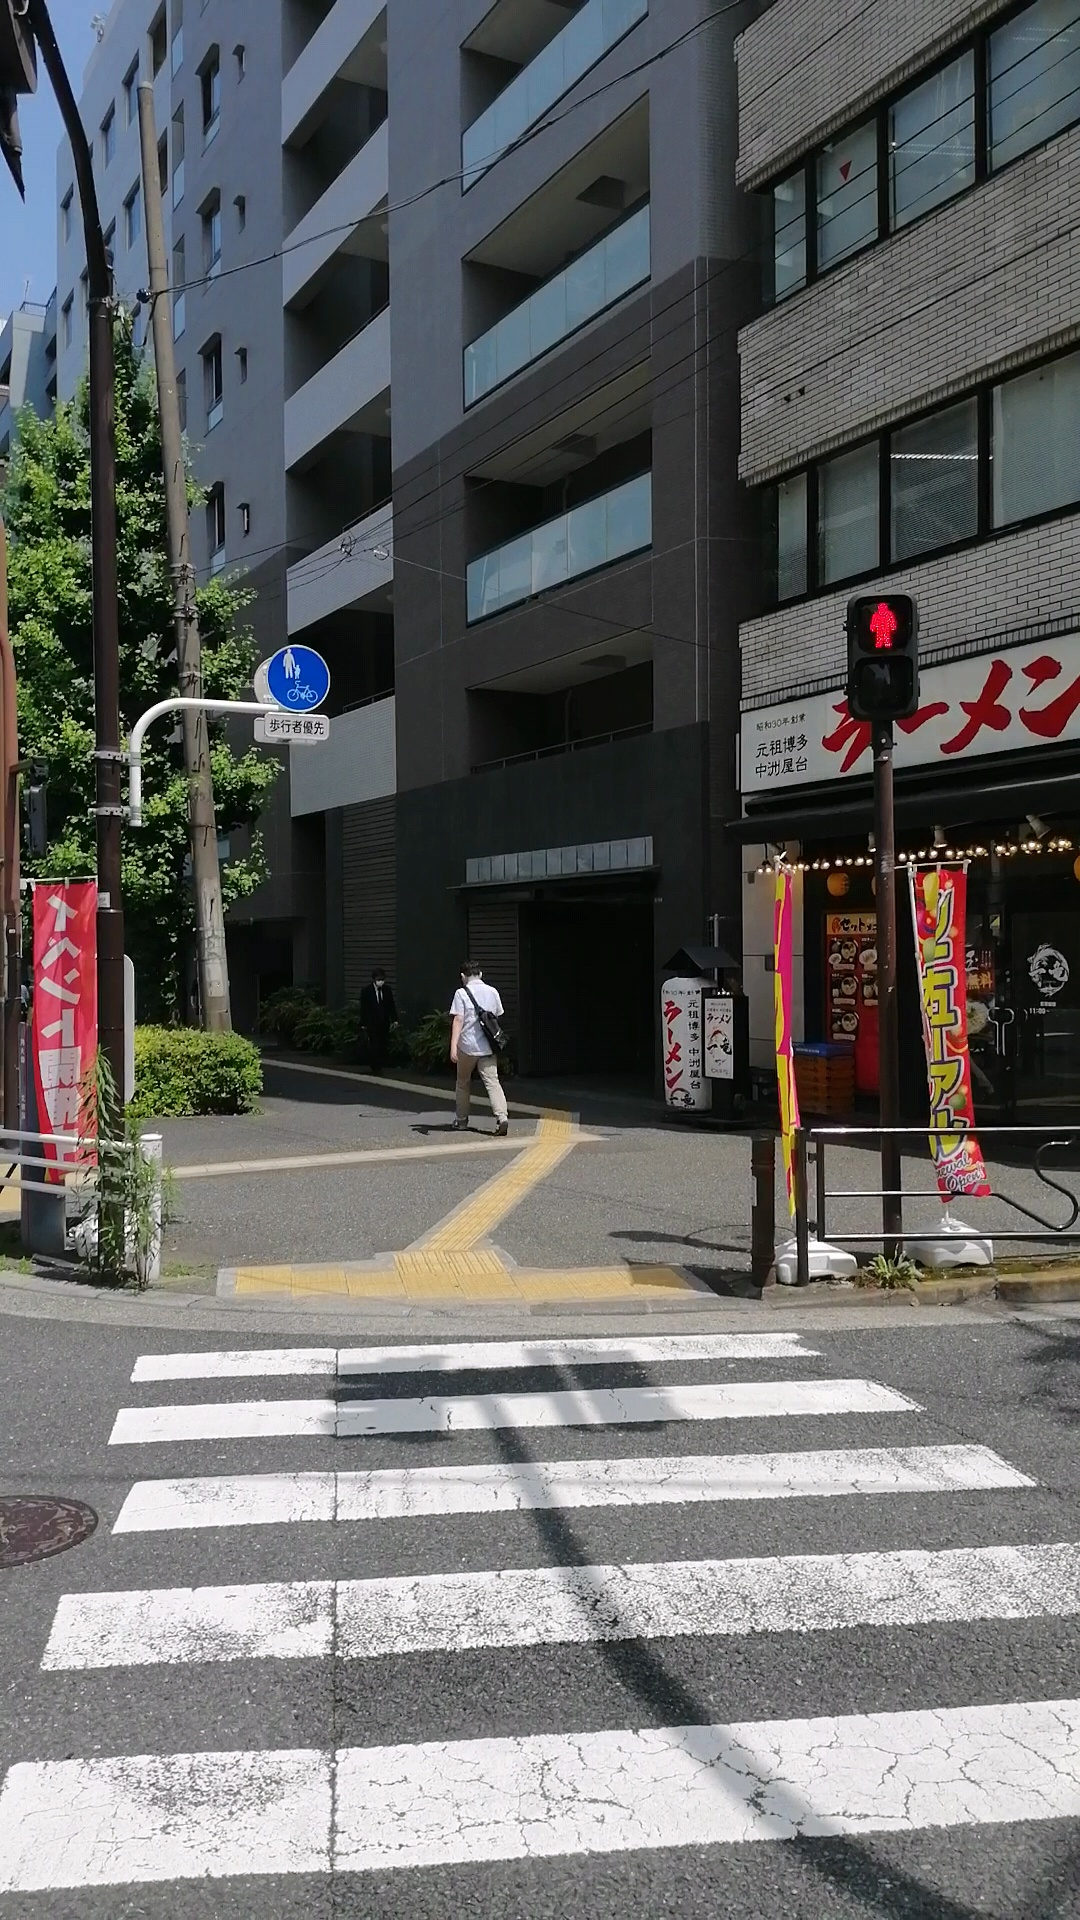red: (849, 595, 918, 717)
